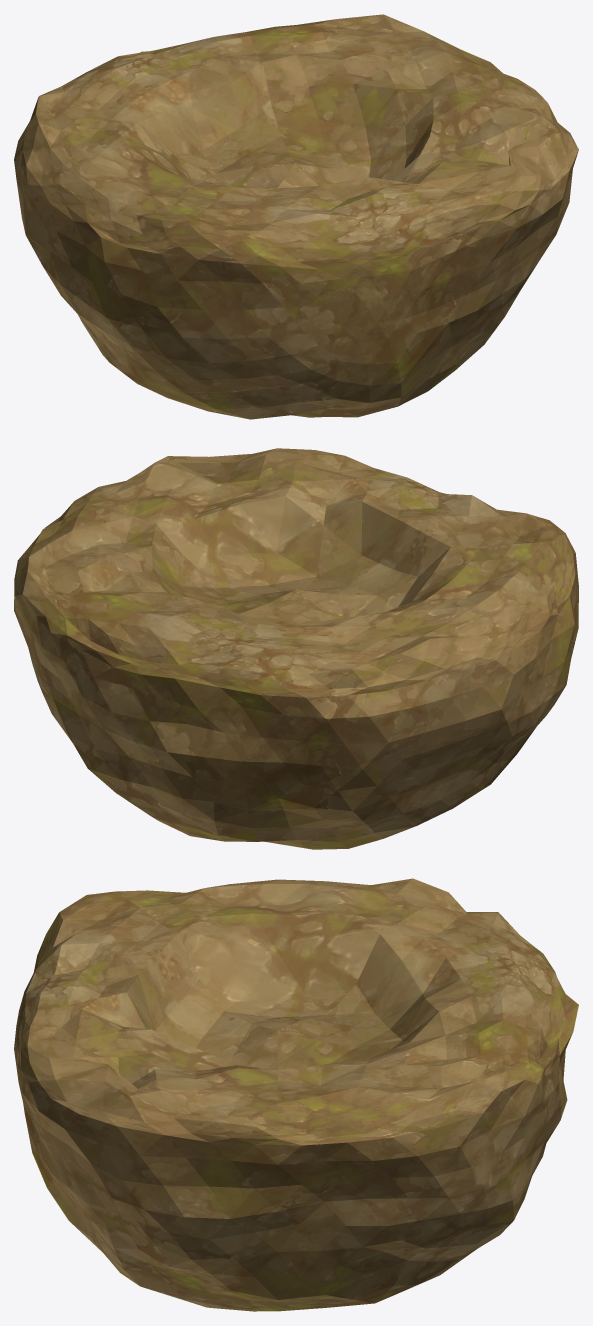
The model's file is land.fbx.
3 renders of one model, top to bottom at view 1: azimuth 30°, elevation 25°; view 2: azimuth 150°, elevation 25°; view 3: azimuth 270°, elevation 25°, orthographic. The views are drawn at different scales.
Visible parts, largest first — view 1: Icosphere; view 2: Icosphere; view 3: Icosphere.
Part boxes in pixels (box(x1,y1,x2,y2)): Icosphere: box(14, 14, 578, 419); Icosphere: box(14, 448, 578, 849); Icosphere: box(14, 878, 578, 1311).
Bounding box in the file's own units: 1653 × 911 × 1541.
